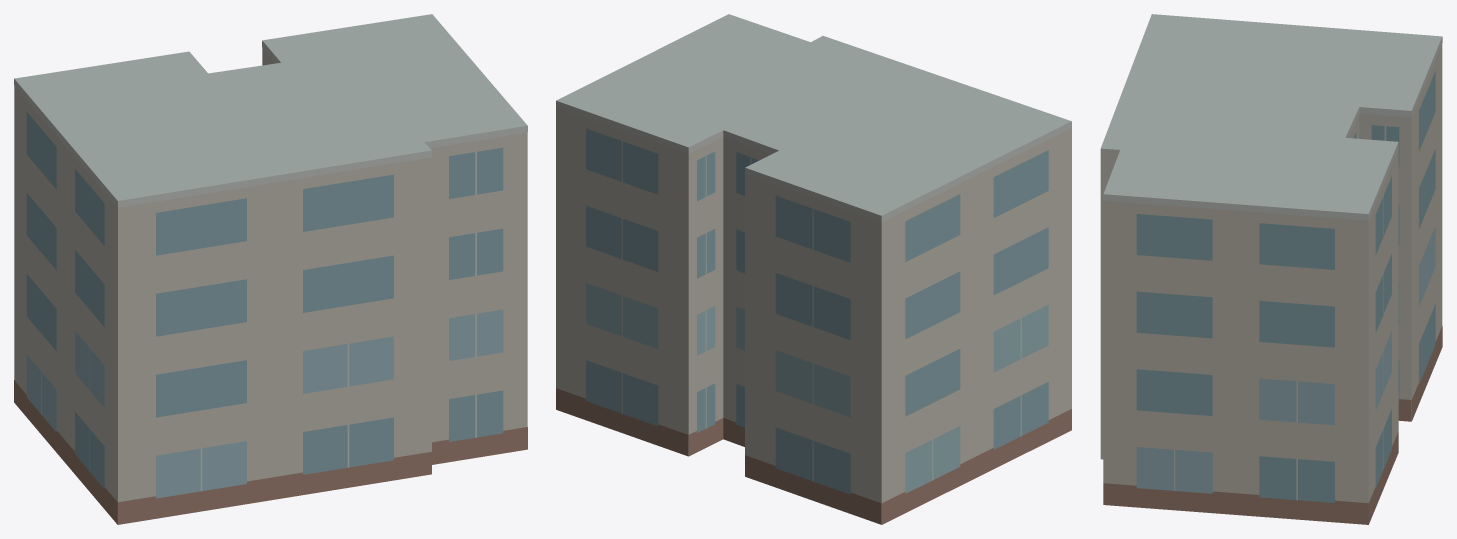
File: survey-upis-32881008.glb
3 views of the same model, side by side, from view 1: azimuth 30°, elevation 25°; view 2: azimuth 150°, elevation 25°; view 3: azimuth 270°, elevation 25° (orthographic). The views are drawn at different scales.
Parts seen in each view (by area): view 1: survey-upis-32881008.tmp; view 2: survey-upis-32881008.tmp; view 3: survey-upis-32881008.tmp.
Boxes of the visible parts, x1,y1,x2,y2 form: survey-upis-32881008.tmp: [14, 14, 527, 524]; survey-upis-32881008.tmp: [556, 14, 1071, 524]; survey-upis-32881008.tmp: [1100, 14, 1442, 524].
Size of the model in its own units: 16.04 by 11.6 by 11.58.
